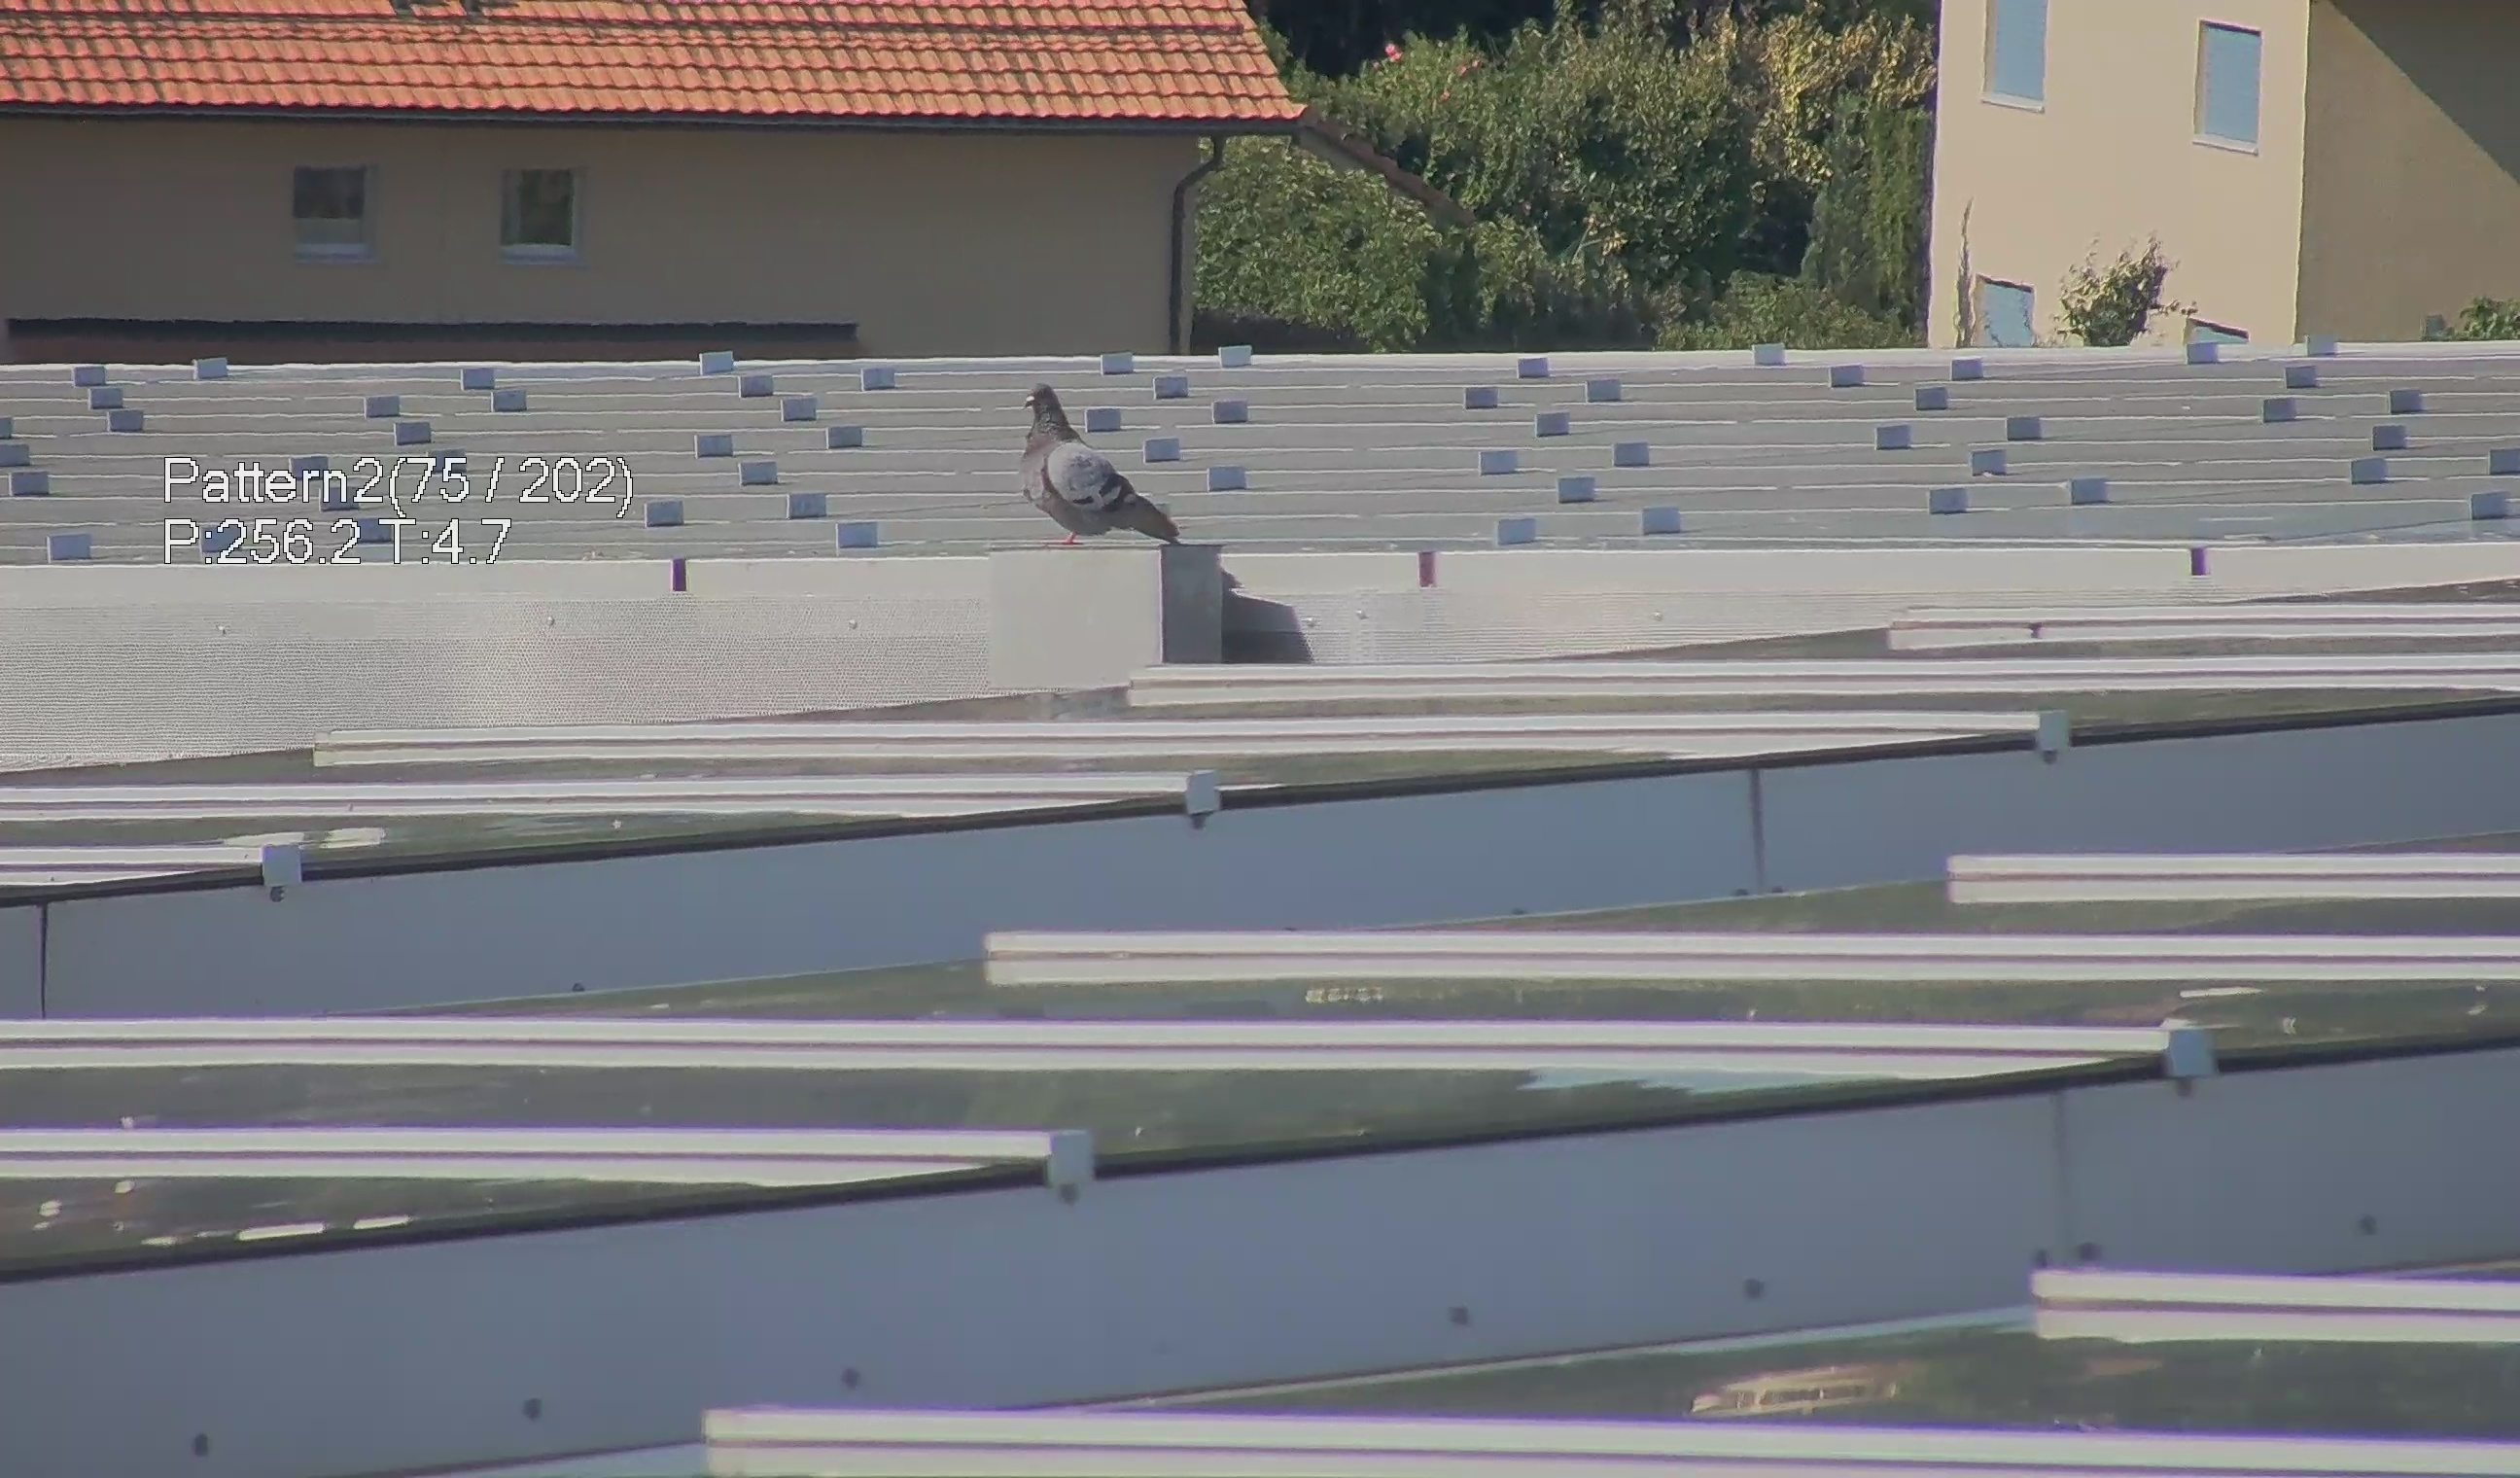Pigeon: (1006, 384, 1184, 563)
